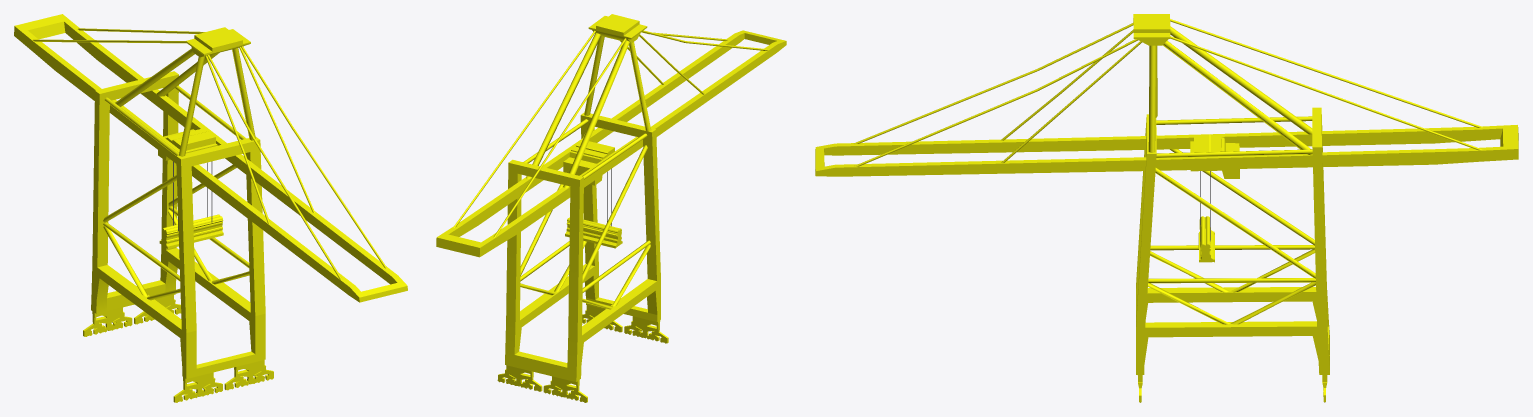
The picture shows the model from 3 angles, left to right: view 1: azimuth 30°, elevation 25°; view 2: azimuth 150°, elevation 25°; view 3: azimuth 270°, elevation 25°; orthographic projection. The views are drawn at different scales.
Parts seen in each view (by area): view 1: Box1205, Gantry43, Box1200, Cylinder2156, Line127, Cylinder2157, Cylinder2155, Line126, Cylinder2131, Cylinder2158, wheel170, Cylinder2154 (+7 smaller); view 2: Box1205, Box1200, Gantry43, Cylinder2157, Cylinder2154, Cylinder2159, Cylinder2156, Line127, Line125, Line126, wheel170, Cylinder2160 (+7 smaller); view 3: Box1205, Box1200, Gantry43, Cylinder2157, Cylinder2154, Cylinder2159, Cylinder2160, Cylinder2158, Cylinder2131, Line127, Cylinder2155, Line125 (+4 smaller).
Part boxes in pixels (left/top/right/bottom): Box1205: left=91, top=71, right=265, bottom=378; Gantry43: left=199, top=46, right=407, bottom=302; Box1200: left=14, top=14, right=245, bottom=180; Cylinder2156: left=179, top=48, right=255, bottom=156; Line127: left=186, top=27, right=250, bottom=57; Cylinder2157: left=115, top=48, right=219, bottom=106; Cylinder2155: left=205, top=47, right=314, bottom=223; Line126: left=159, top=214, right=223, bottom=248; Cylinder2131: left=253, top=129, right=387, bottom=279; Cylinder2158: left=105, top=85, right=246, bottom=155; wheel170: left=173, top=372, right=222, bottom=402; Cylinder2154: left=33, top=28, right=205, bottom=43; Box1205: left=505, top=112, right=660, bottom=381; Box1200: left=436, top=127, right=643, bottom=257; Gantry43: left=606, top=30, right=786, bottom=136; Cylinder2157: left=526, top=33, right=629, bottom=190; Cylinder2154: left=453, top=30, right=626, bottom=237; Cylinder2159: left=520, top=132, right=647, bottom=282; Cylinder2156: left=584, top=36, right=651, bottom=131; Line127: left=588, top=14, right=647, bottom=43; Line125: left=563, top=141, right=614, bottom=185; Line126: left=565, top=217, right=622, bottom=248; wheel170: left=624, top=316, right=668, bottom=343; Cylinder2160: left=520, top=240, right=650, bottom=292; Box1205: left=1136, top=107, right=1329, bottom=374; Box1200: left=1141, top=125, right=1518, bottom=170; Gantry43: left=815, top=23, right=1141, bottom=176; Cylinder2157: left=1162, top=26, right=1312, bottom=155; Cylinder2154: left=1170, top=19, right=1482, bottom=150; Cylinder2159: left=1155, top=149, right=1315, bottom=278; Cylinder2160: left=1148, top=245, right=1315, bottom=283; Cylinder2158: left=1156, top=116, right=1312, bottom=157; Cylinder2131: left=853, top=68, right=1039, bottom=166; Line127: left=1133, top=14, right=1170, bottom=45; Cylinder2155: left=1001, top=29, right=1142, bottom=162; Line125: left=1190, top=134, right=1239, bottom=178.
Bounding box in the file's own units: 0.2564 × 0.8594 × 1.53.
Materials: 6 (5 with a texture image).
